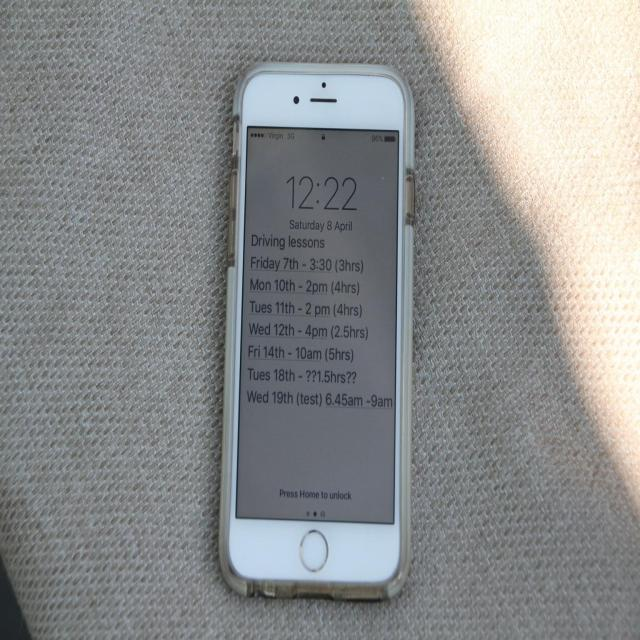Phone: (216, 62, 420, 598)
